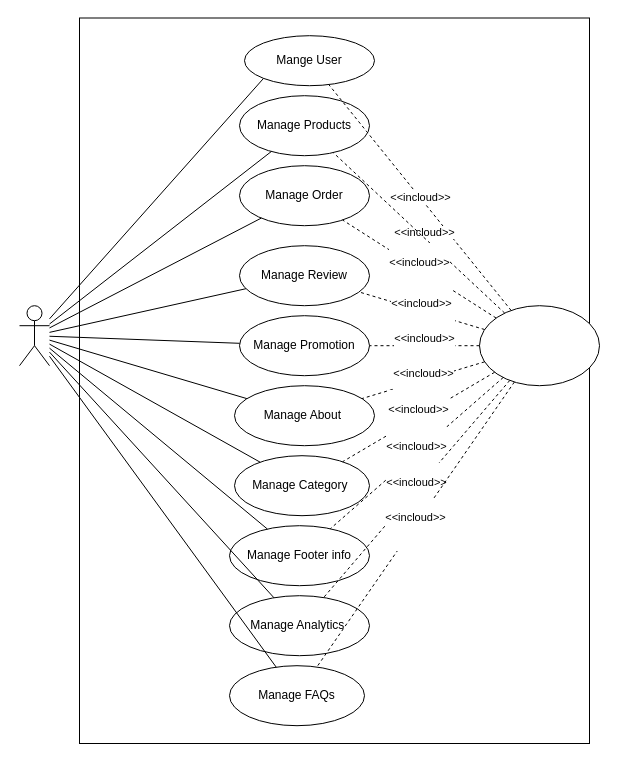
Image size: 617x761. Some labels were removed from this diagram. The shapes that lost their labels are listed below. From the top down, each one's centre as x and y in pixels, then its label:
At point 34,335: "Admin".
At point 539,345: "Authentication".
